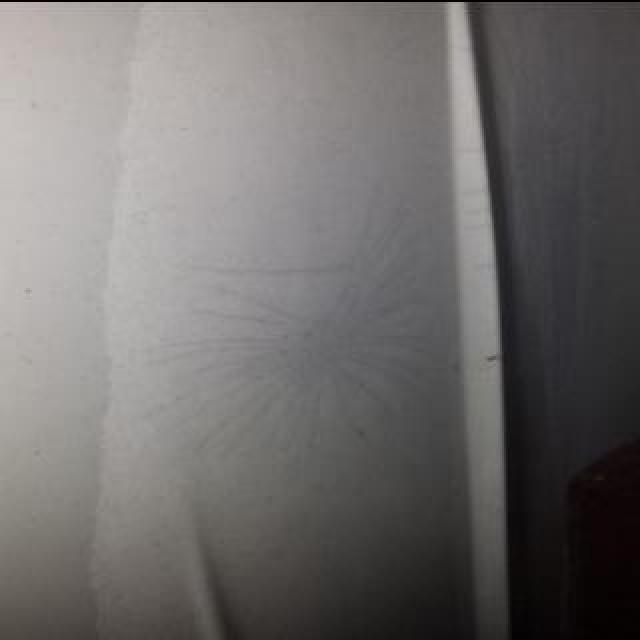crack: (144, 181, 424, 457), (190, 262, 338, 278)
